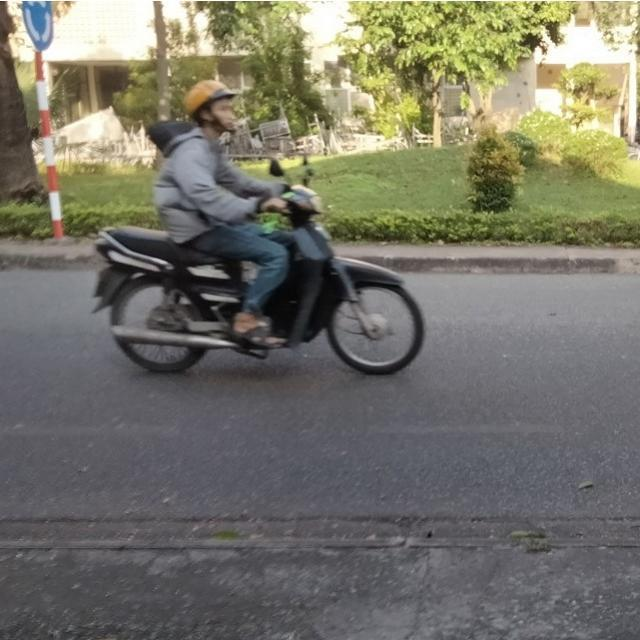Helmet: (182, 77, 242, 139)
